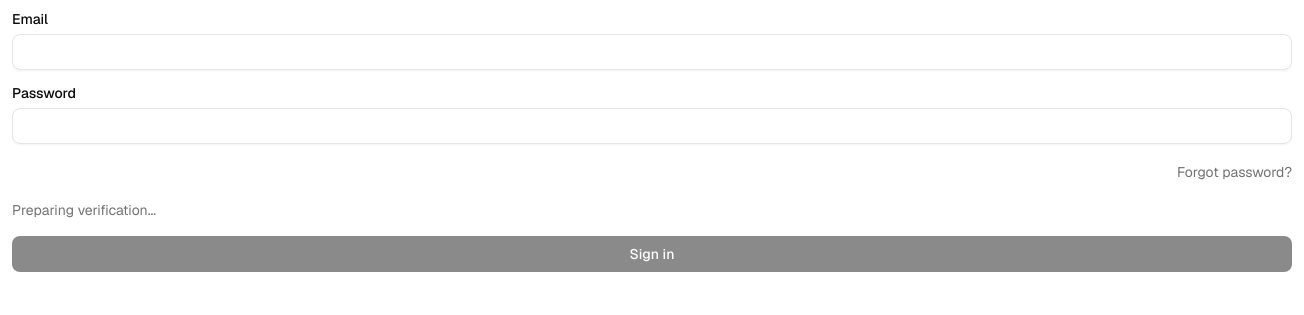
Test: LoginForm › re-probes ALTCHA when backend requires payload
Type "admin@example.com" into the field labelled "Email".
click(652, 52); type("admin@example.com")  # box top-left (12, 34), bottom-right (1292, 70)
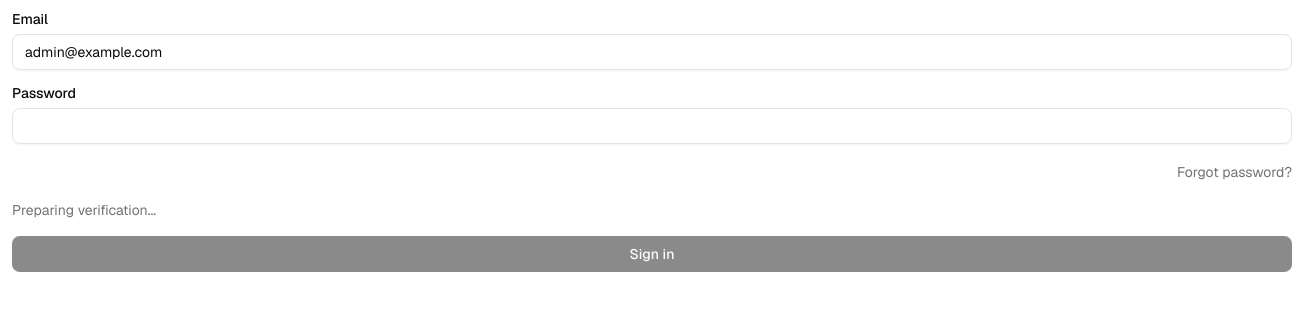
Type "correct-password" into the password field labelled "Password".
click(652, 126); type("correct-password")  # box top-left (12, 108), bottom-right (1292, 144)
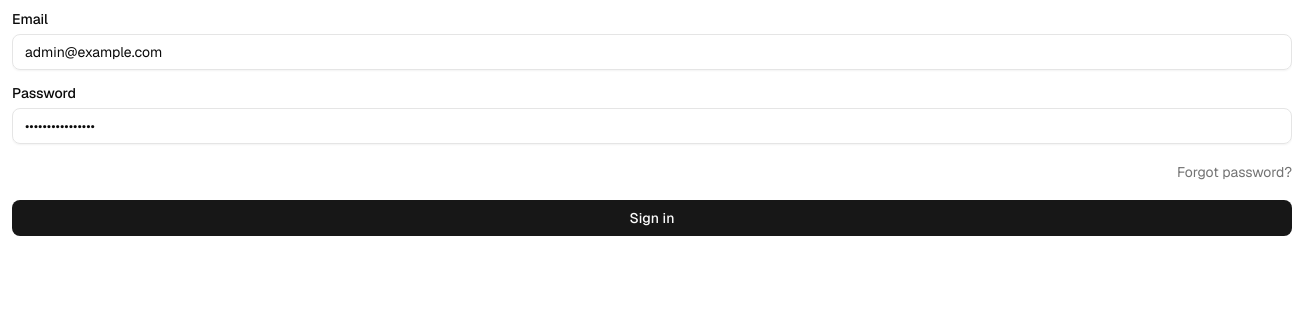
Now the button "Sign in" is enabled
Click the button "Sign in".
click(652, 218)  # box top-left (12, 200), bottom-right (1292, 236)
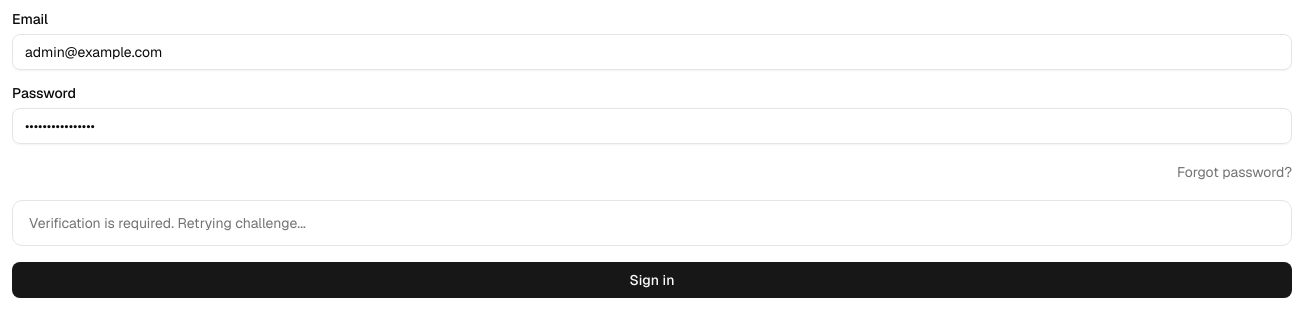
Now the text "Verification is required. Retrying challenge..." is shown, box top-left (29, 214), bottom-right (306, 232)
